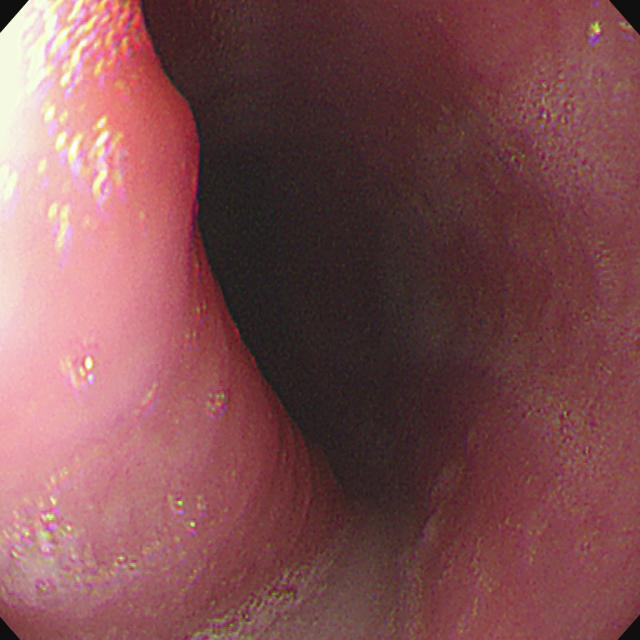T: (185, 554, 336, 640)
U: (2, 94, 130, 258), (2, 2, 143, 94)
